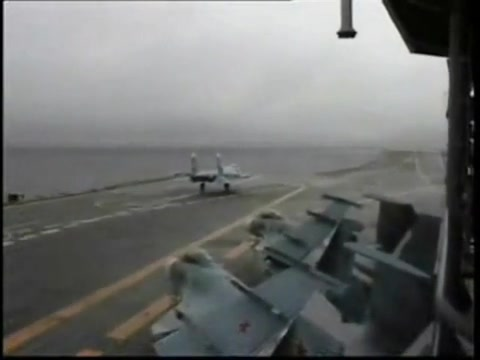aeroplane: (170, 154, 257, 196)
